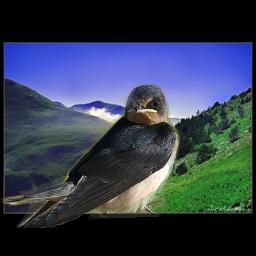Swallow: (0, 84, 180, 228)
